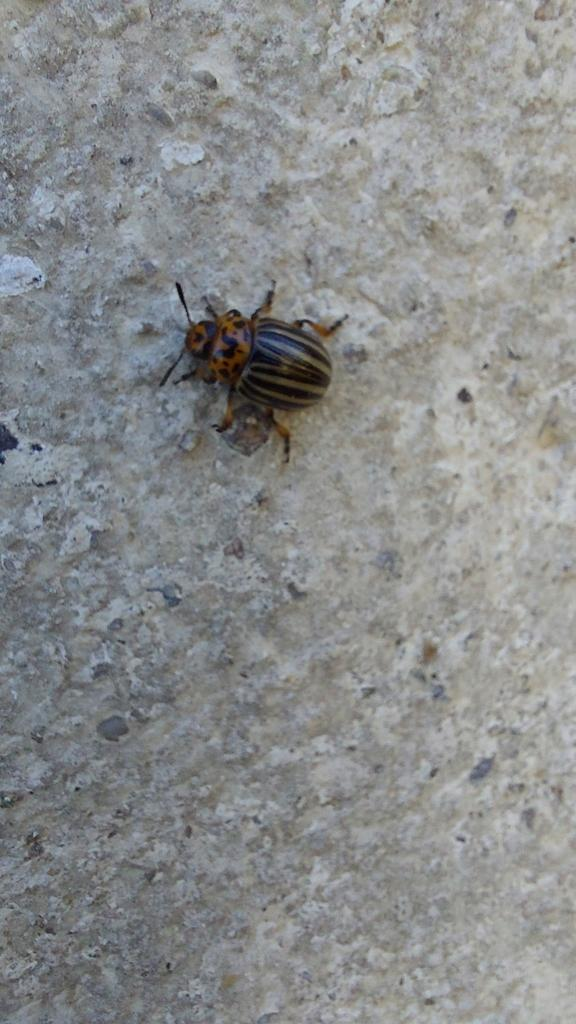potato_beetle: (132, 223, 396, 485)
